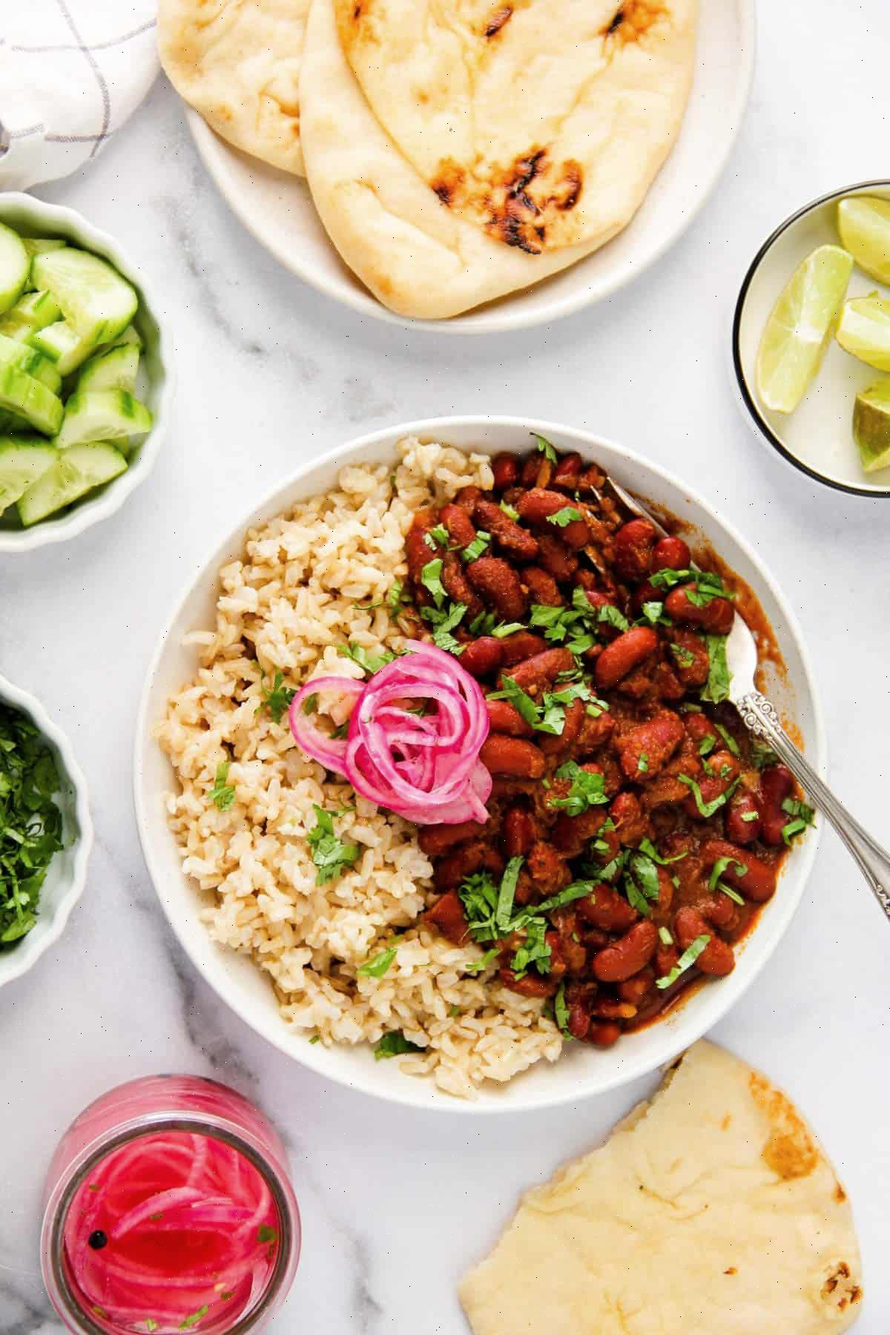rajma: (467, 467, 860, 1009)
rice: (189, 508, 441, 1112)
